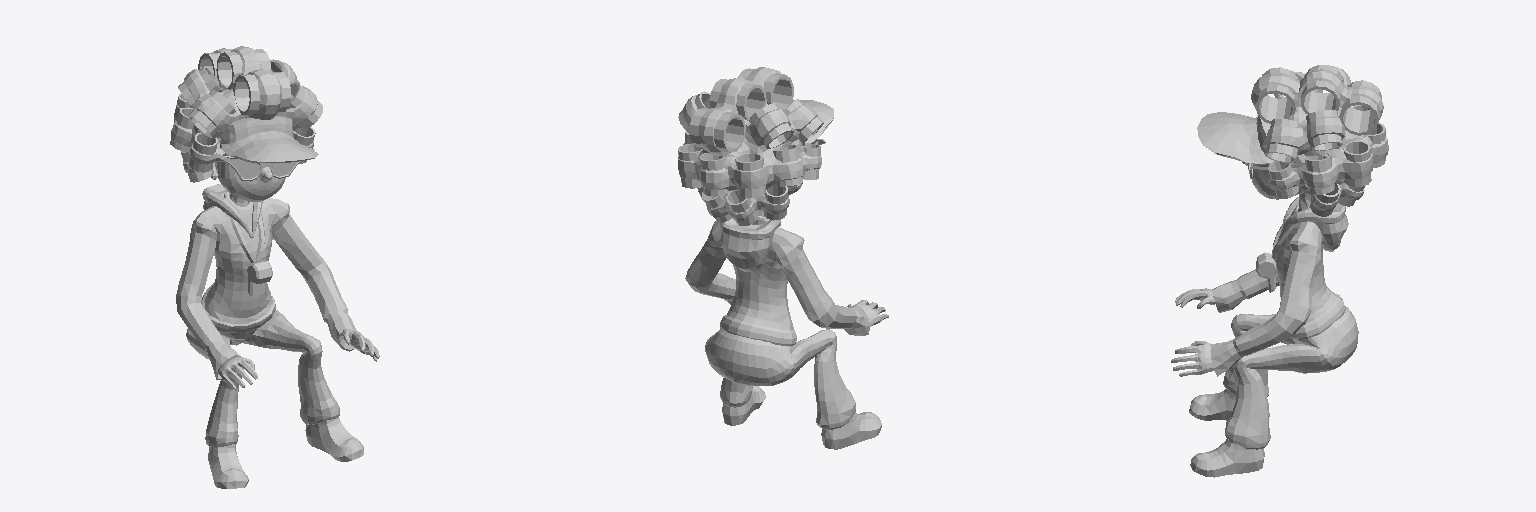
The model's file is humano_mom_2.obj.
The picture shows the model from 3 angles: view 1: azimuth 30°, elevation 25°; view 2: azimuth 150°, elevation 25°; view 3: azimuth 270°, elevation 25°; orthographic projection.
Visible parts, largest first — view 1: Fitness_Grandma_BodyGeo; view 2: Fitness_Grandma_BodyGeo; view 3: Fitness_Grandma_BodyGeo.
Boxes of the visible parts, x1,y1,x2,y2 form: Fitness_Grandma_BodyGeo: [170, 46, 379, 488]; Fitness_Grandma_BodyGeo: [678, 67, 888, 449]; Fitness_Grandma_BodyGeo: [1171, 65, 1388, 477].
Size of the model in its own units: 0.4797 by 1.15 by 0.5998.